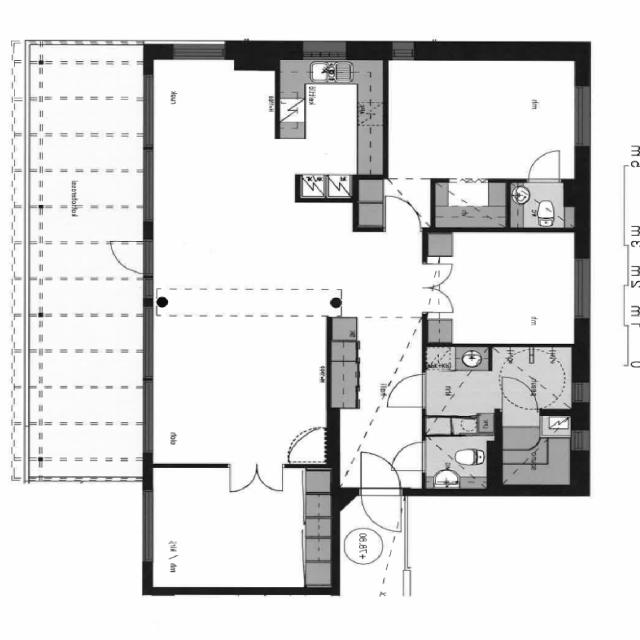door: (362, 488, 402, 533), (362, 451, 402, 496), (103, 238, 152, 274), (384, 372, 428, 408), (503, 376, 538, 414), (387, 195, 421, 232), (391, 442, 428, 471), (530, 152, 560, 182), (422, 263, 456, 288), (422, 288, 456, 313), (230, 464, 257, 493), (258, 464, 284, 493)
